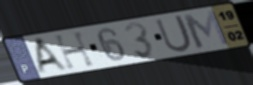3: (124, 20, 156, 60)
6: (96, 27, 128, 63)
A: (34, 35, 72, 75)
H: (52, 29, 98, 71)
M: (180, 9, 232, 50)
U: (153, 13, 194, 54)
